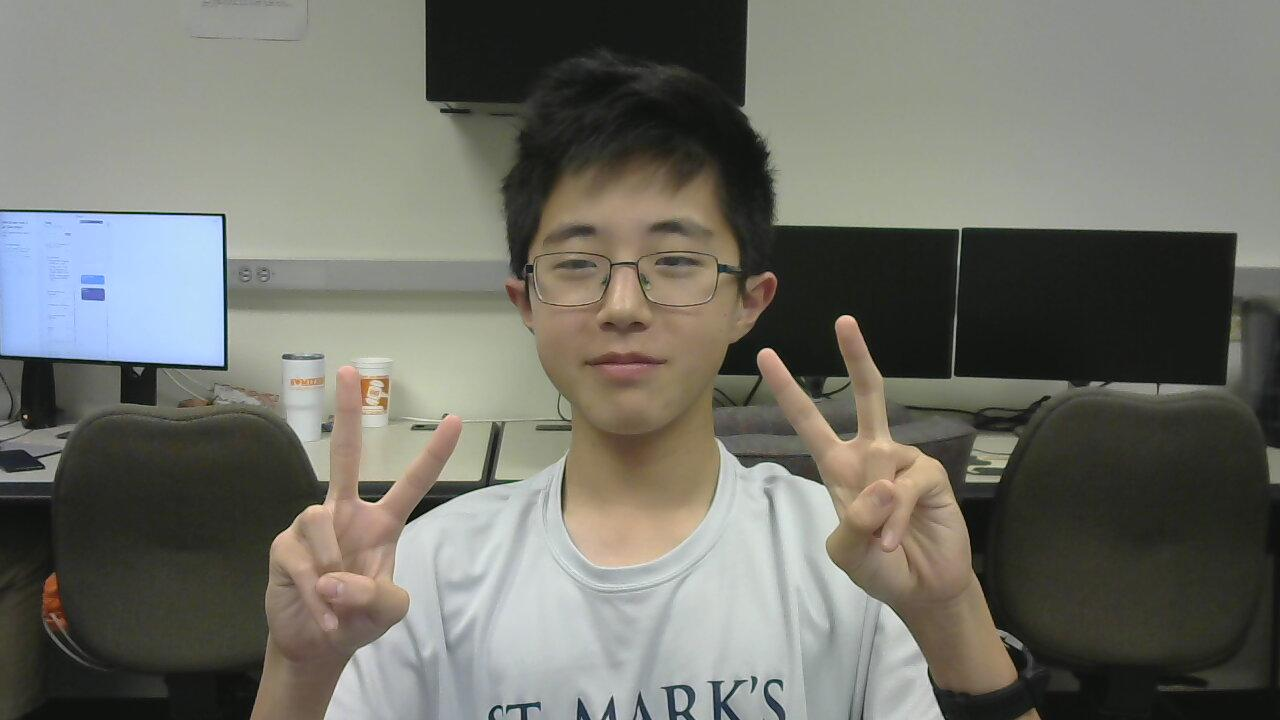peace: (741, 302, 984, 608), (256, 359, 466, 679)
